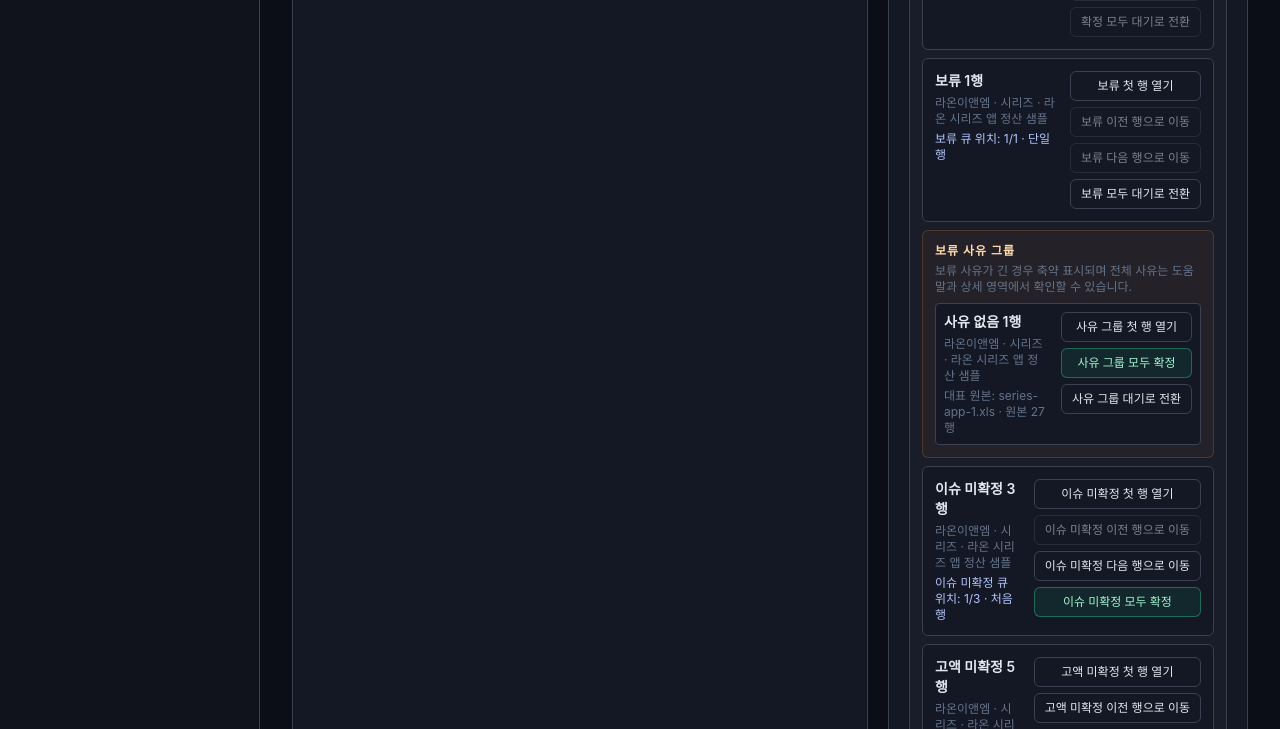
Test case: AutoSettlement UI shell › surfaces legacy held rows without saved hold reasons as a recoverable group
The width and height of the screenshot is (1280, 729).
(page scrolled)
Expected: the text "사유 없음 1행" is shown, [944,312,1021,330]
Click the button with aria-label "사유 없음 사유 그룹 대기로 전환". click: (1126, 398)
box: [1061,384,1192,414]
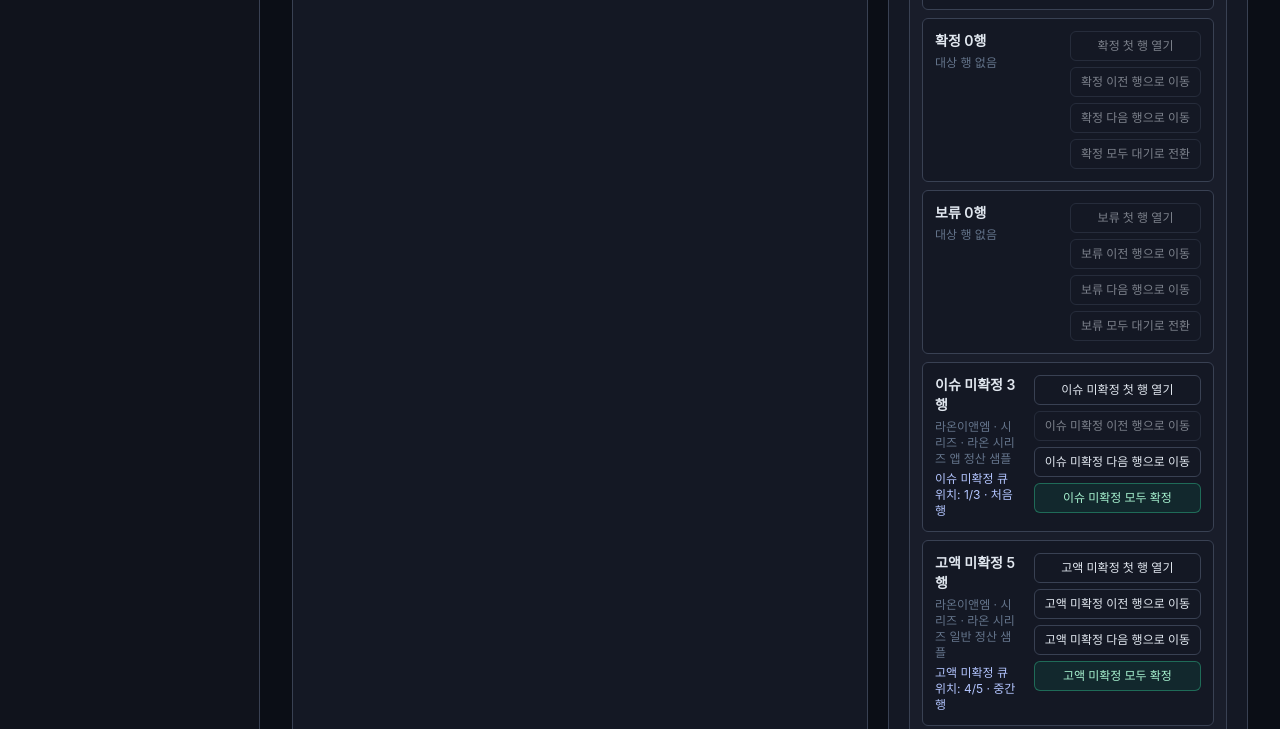
Expected: the text "사유 없음 1행" is gone
Expected: the text "보류 0행" is shown, [935,204,986,220]
